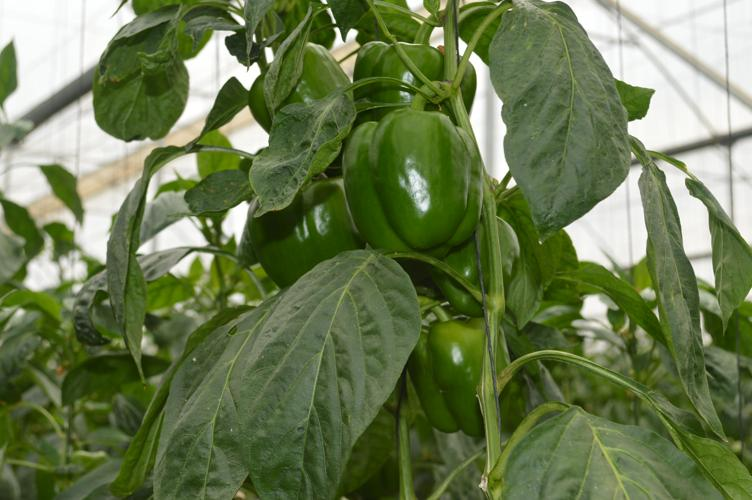BellPepper: (345, 110, 480, 247), (404, 319, 521, 438), (242, 180, 351, 279), (423, 217, 519, 318), (350, 41, 473, 117), (247, 44, 345, 134)
